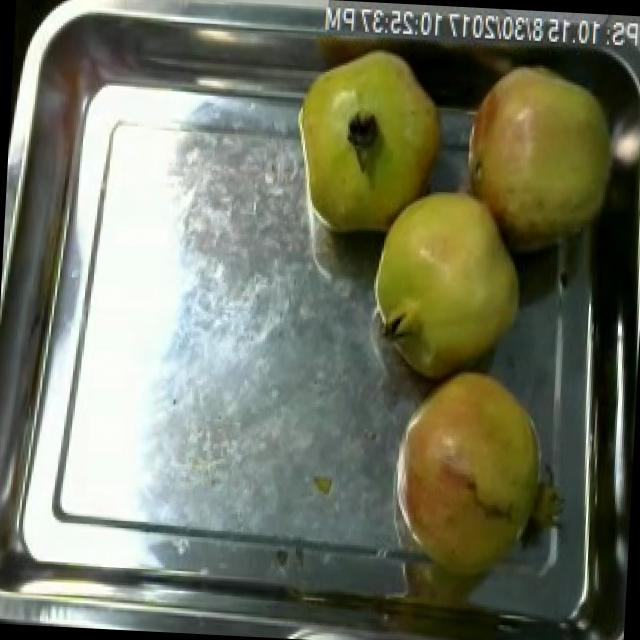fruit: (382, 349, 558, 590), (361, 164, 540, 390), (447, 52, 628, 268), (284, 41, 458, 234)
